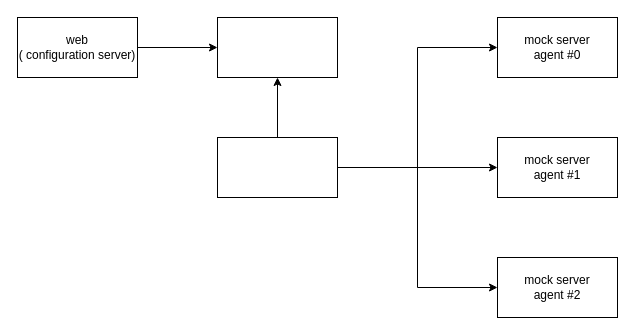
This 635x335 diagram has some shape labels left out. Each missing label, with the centre of its shape:
"batch" goes at point (277, 167).
"database" goes at point (277, 47).
